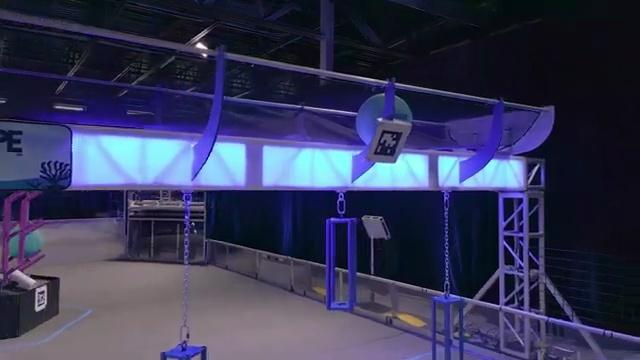ALGAE: (357, 94, 414, 150), (7, 228, 43, 258)
